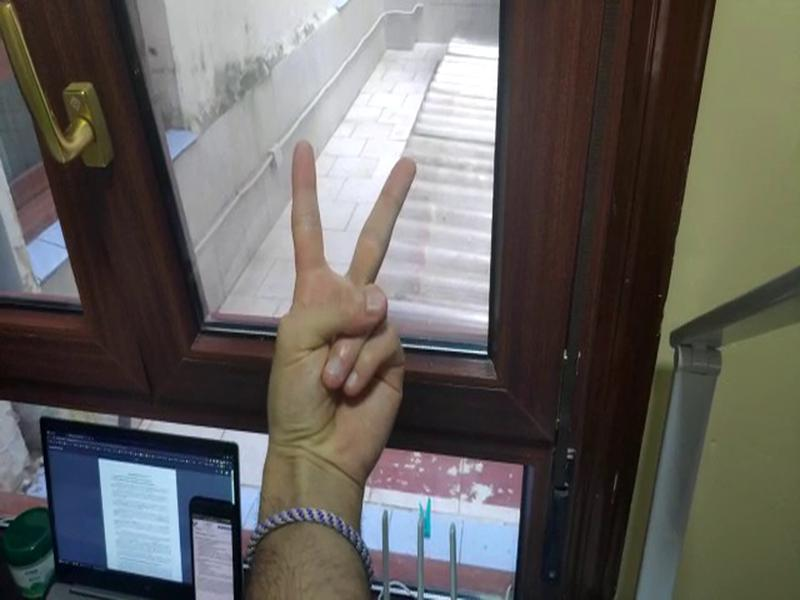Peace: (264, 126, 434, 467)
